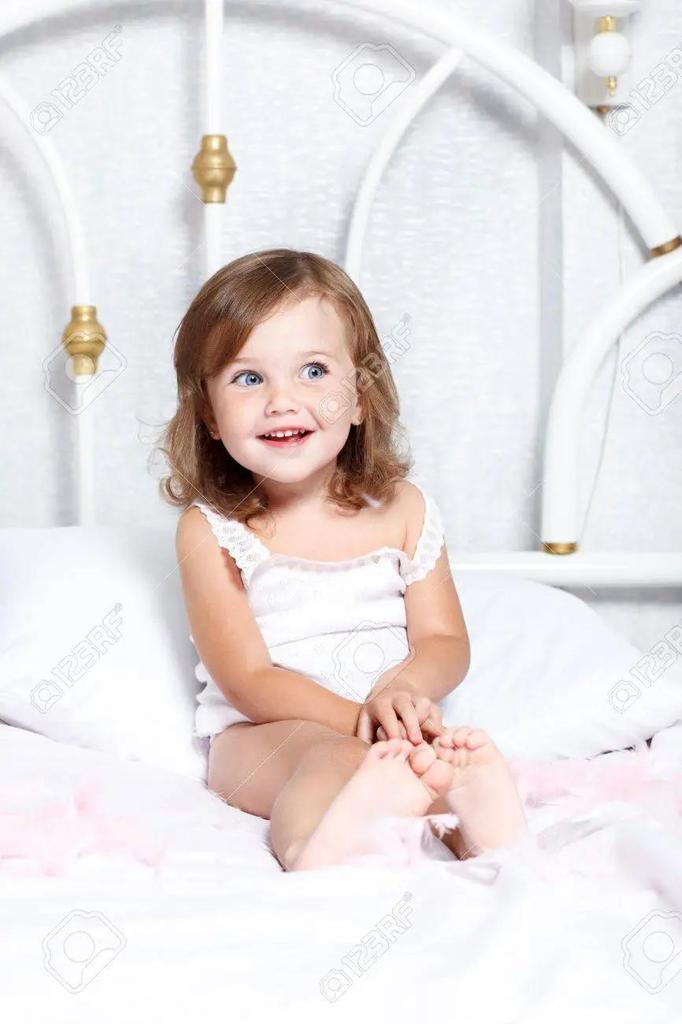child: (117, 240, 547, 888)
